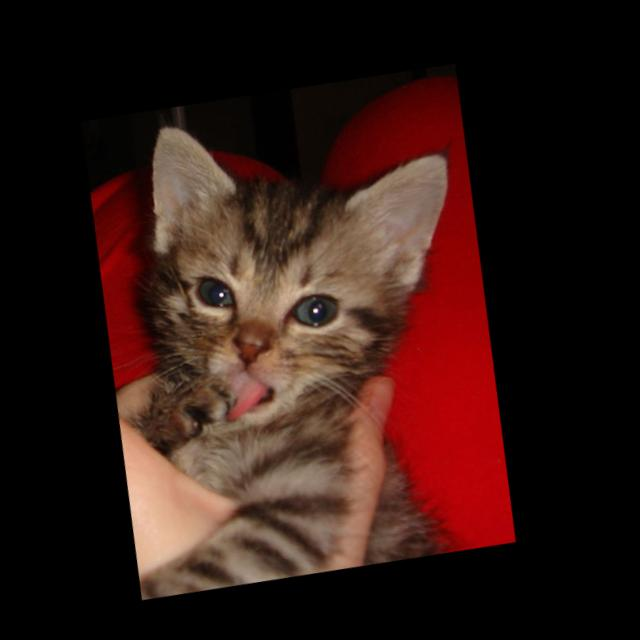animals: (132, 74, 479, 380)
